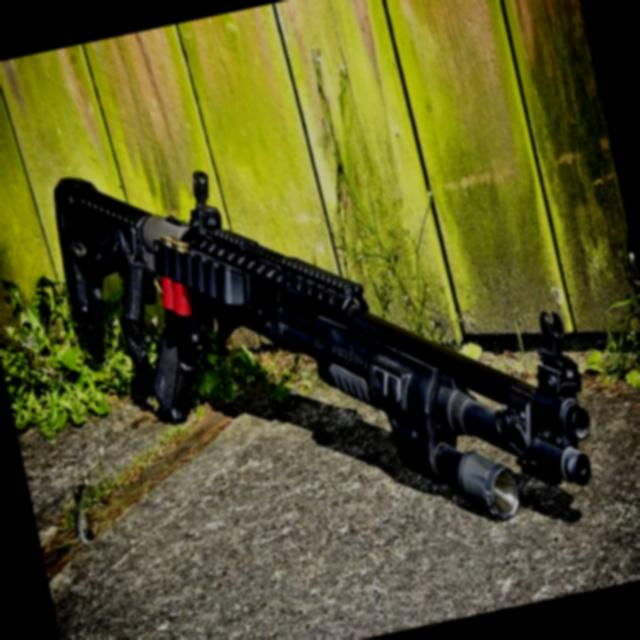shotgun: (33, 65, 622, 628)
